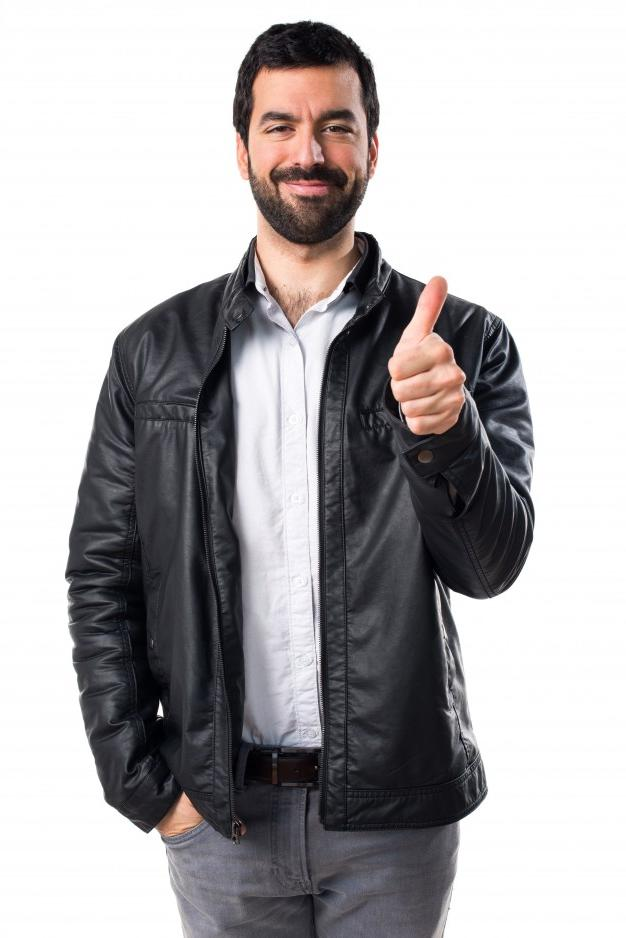thumbsup: (388, 275, 467, 434)
